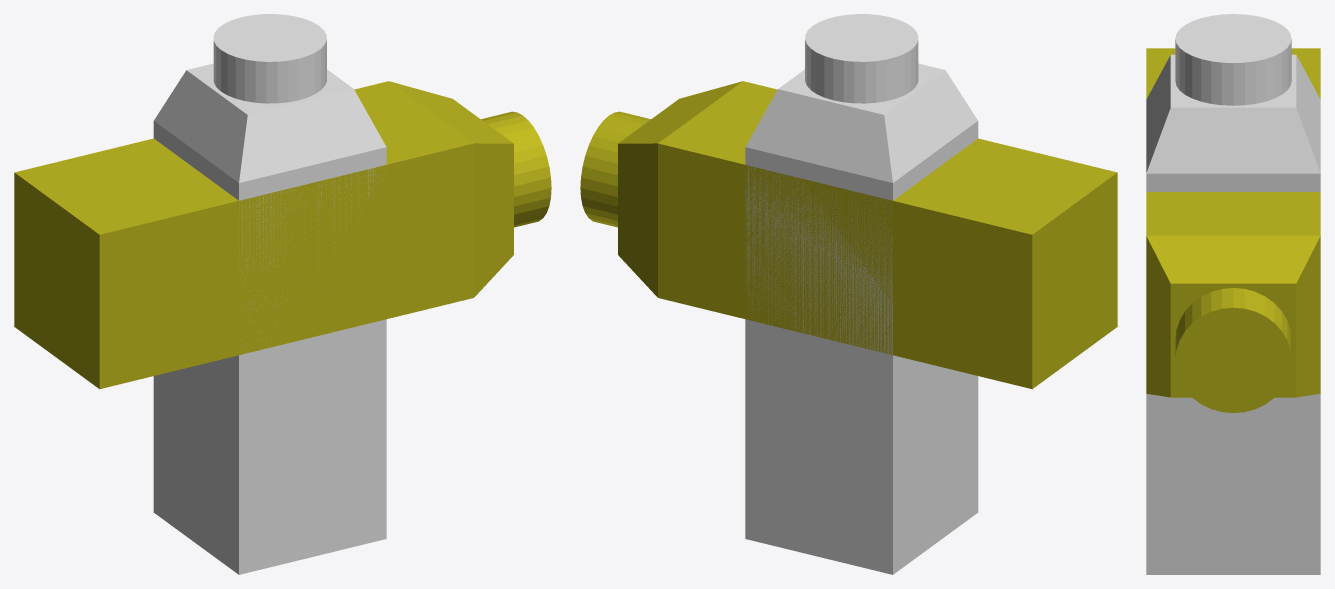
3 renders of one model, left to right at view 1: azimuth 30°, elevation 25°; view 2: azimuth 150°, elevation 25°; view 3: azimuth 270°, elevation 25°, orthographic. The views are drawn at different scales.
Visible parts, largest first — view 1: Cup Yellow, Cup Generic Upright, Cylinder; view 2: Cup Yellow, Cup Generic Upright, Cylinder; view 3: Cup Generic Upright, Cup Yellow, Cylinder.
Part boxes in pixels (<box>): Cup Yellow: <box>14,81,551,389</box>; Cup Generic Upright: <box>153,14,386,574</box>; Cylinder: <box>213,40,326,103</box>; Cup Yellow: <box>580,81,1117,389</box>; Cup Generic Upright: <box>745,14,978,574</box>; Cylinder: <box>805,40,917,103</box>; Cup Generic Upright: <box>1146,14,1320,574</box>; Cup Yellow: <box>1146,48,1320,412</box>; Cylinder: <box>1175,39,1291,105</box>.
Bounding box in the file's own units: 0.361 × 0.1143 × 0.361.
